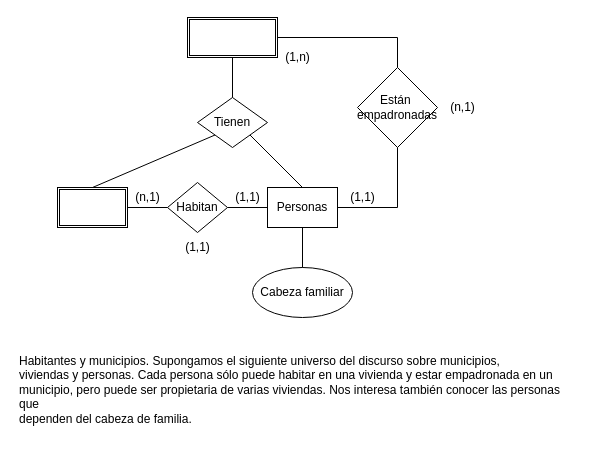
The diagram is 594 pixels wide and 475 high, and some of its shapes have lost their labels. Here are the shapes that lost their labels. From the top down, the box of each, then its label:
(186, 16, 278, 58): Municipios
(56, 186, 128, 228): Viviendas
